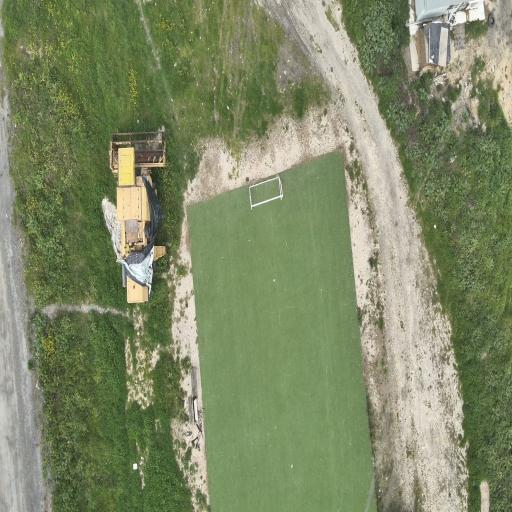harvester: (110, 130, 165, 302)
